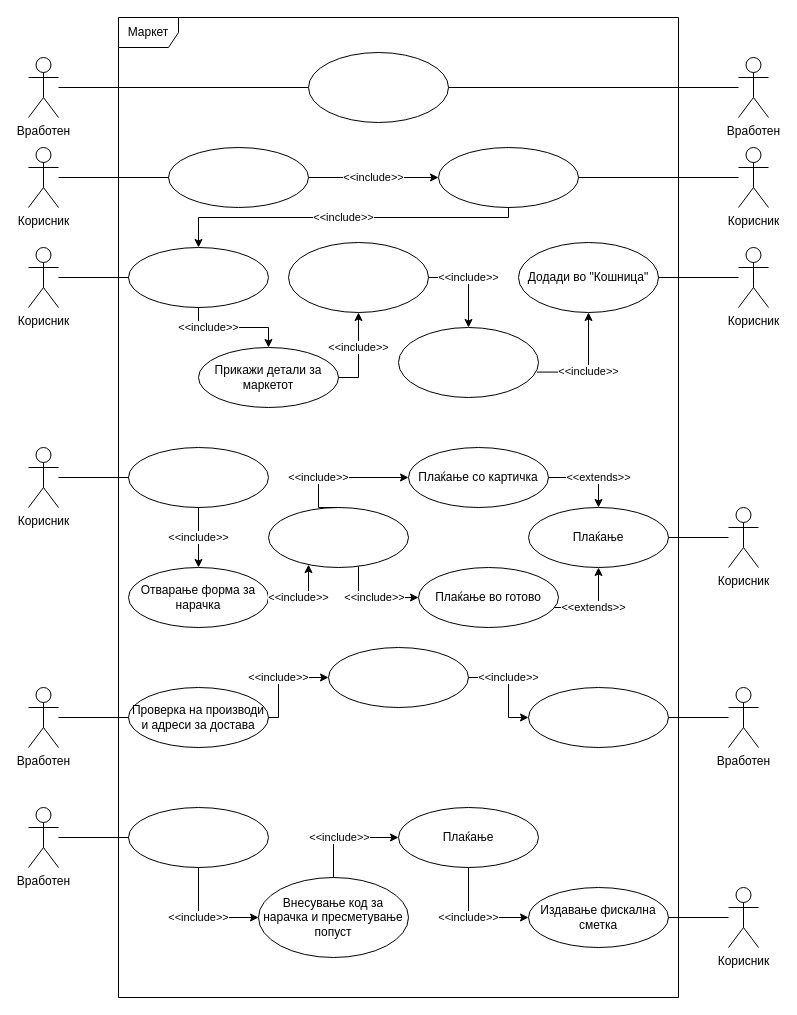
Image size: 797x1015. Some labels were removed from this diagram. Each missing label, with the centre of its shape:
Внесување податоци за корисник: the point at 338,537
Генерирање листа на маркети: the point at 508,177
Генерирање оптимална рута: the point at 598,717
Клик на копчето КУПИ: the point at 198,477
Лични податоци за вработен: the point at 378,87
Најава во системот: the point at 198,837
Опции за пребарување (Маркет, град, датум, име): the point at 238,177
Приказ на детали за селектиран производ: the point at 468,362
Селекција на маркет: the point at 198,277
Селекција на производ: the point at 358,277
Утовар во соодветно возило: the point at 398,677
